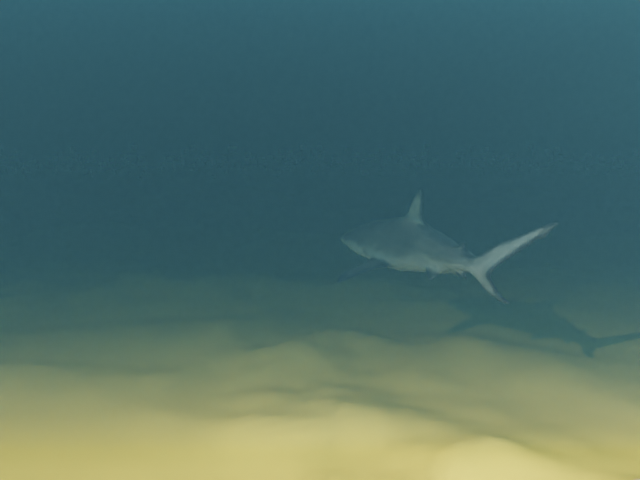Carribean Shark.001: (337, 189, 558, 304)
